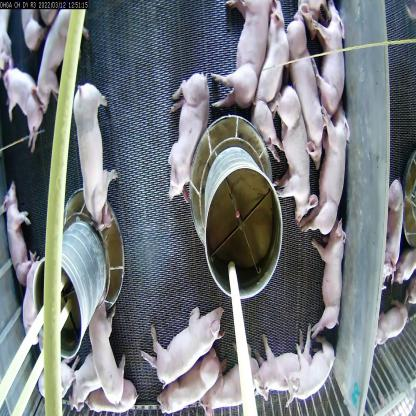Pig: (62, 66, 128, 224), (150, 284, 219, 389), (278, 2, 316, 152), (34, 9, 87, 110), (257, 1, 286, 175), (209, 0, 256, 106), (157, 348, 231, 415), (162, 80, 201, 207), (316, 101, 351, 242), (274, 79, 306, 228), (1, 40, 52, 131), (193, 360, 272, 416), (0, 180, 39, 293), (84, 290, 129, 387), (246, 342, 308, 411), (317, 224, 346, 342), (76, 371, 136, 415), (298, 344, 335, 415)
